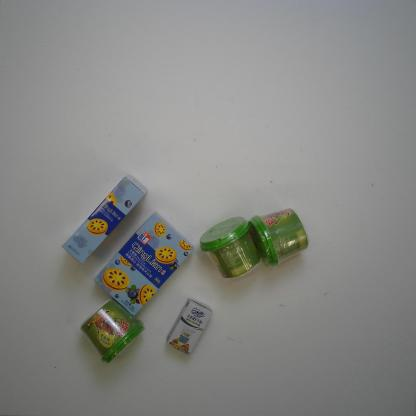Dessert: (91, 210, 196, 315), (59, 174, 146, 267)
Instant Drink: (78, 298, 146, 368), (198, 214, 262, 280), (248, 205, 312, 270)
Milk: (163, 298, 213, 358)
